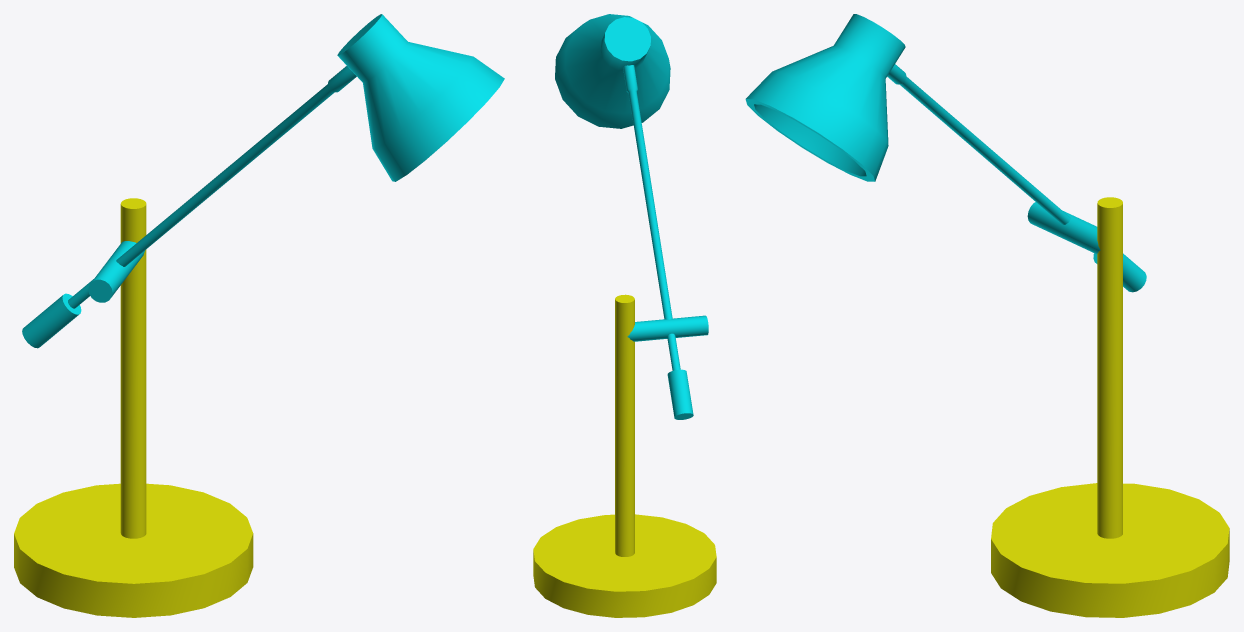
File: lampe.gltf
3 renders of one model, left to right at view 1: azimuth 30°, elevation 25°; view 2: azimuth 150°, elevation 25°; view 3: azimuth 270°, elevation 25°, orthographic. The views are drawn at different scales.
Visible parts, largest first — view 1: Cylinder, Cylinder.3, Cylinder.2, Cylinder.1; view 2: Cylinder, Cylinder.3, Cylinder.2, Cylinder.1; view 3: Cylinder, Cylinder.3, Cylinder.2, Cylinder.1.
Part boxes in pixels (box(x1,y1,x2,y2)): Cylinder: box(14, 198, 253, 617); Cylinder.3: box(337, 14, 504, 181); Cylinder.2: box(22, 66, 356, 348); Cylinder.1: box(88, 241, 144, 302); Cylinder: box(533, 294, 716, 617); Cylinder.3: box(555, 14, 670, 128); Cylinder.2: box(623, 65, 693, 419); Cylinder.1: box(627, 315, 708, 341); Cylinder: box(991, 197, 1229, 617); Cylinder.3: box(745, 14, 905, 181); Cylinder.2: box(887, 64, 1146, 292); Cylinder.1: box(1027, 202, 1100, 254).
Bounding box in the file's own units: 1.57 × 2.81 × 2.02.
